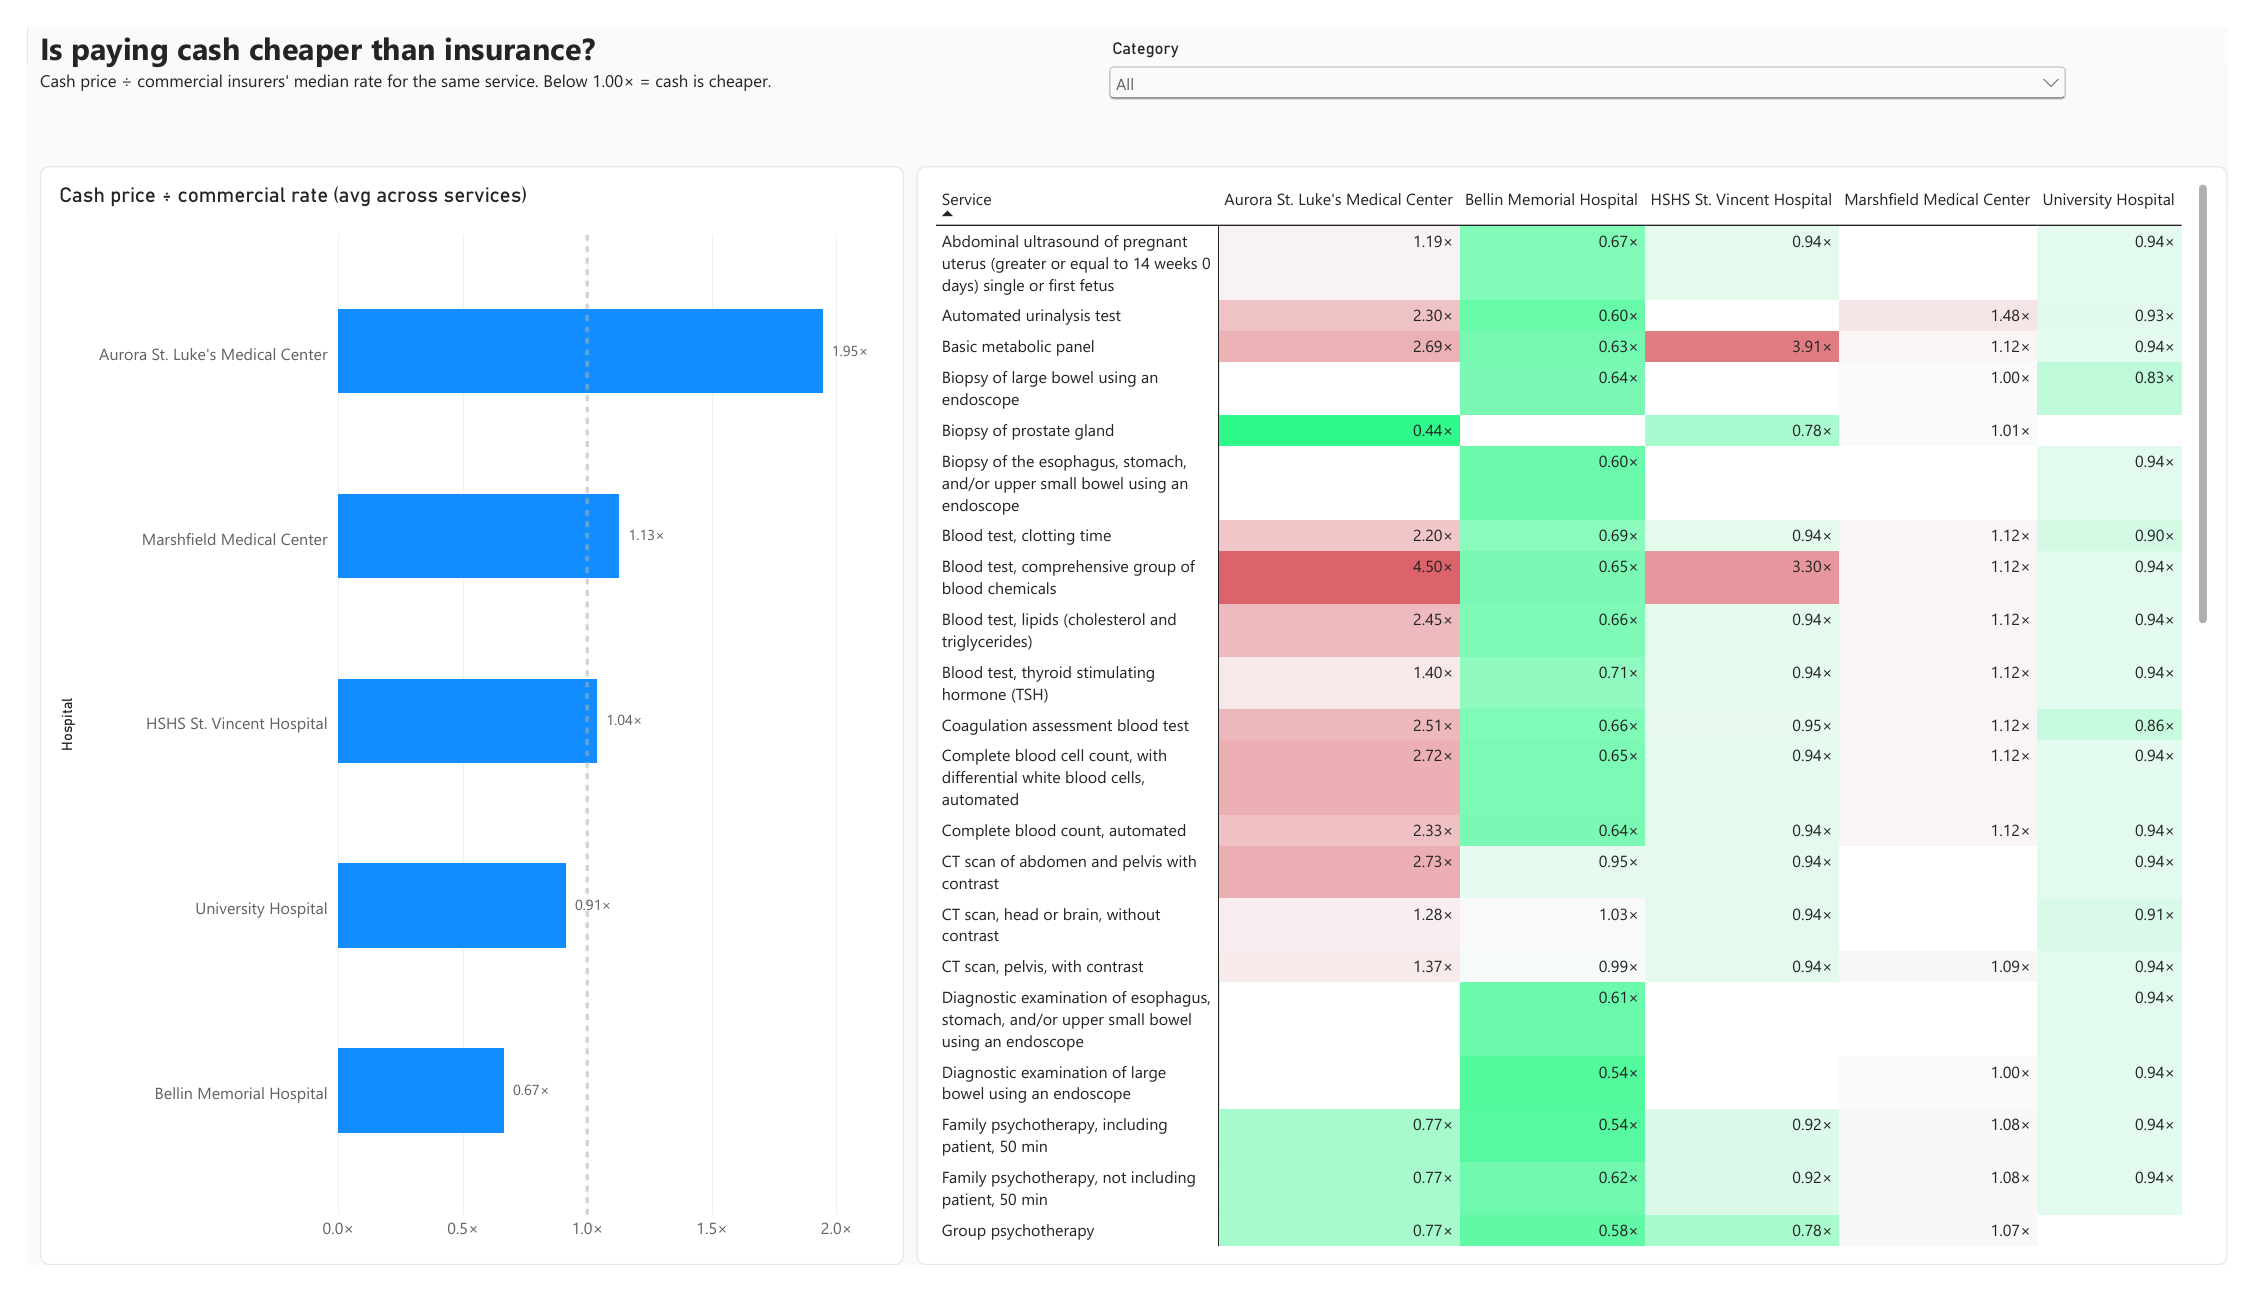

Layout of this report page (visuals, bound fields, positions):
{"tool":"powerbi","page":{"name":"Cash vs Insurance","canvas":[1920,1080],"ordinal":2},"visuals":[{"type":"textbox","box":[10.7,0,844.7,241.3],"z":0},{"type":"slicer","fields":{"Values":["service.category"]},"box":[939.4,10.7,844.7,61.1],"z":1000},{"type":"clusteredBarChart","title":"Cash price ÷ commercial rate (avg across services)","fields":{"Category":["hospital.hospital_name"],"Y":["Metrics.Avg Cash vs Commercial"]},"box":[10.7,120.7,754.6,959.2],"z":2000},{"type":"pivotTable","fields":{"Columns":["hospital.hospital_name"],"Rows":["service.service"],"Values":["Metrics.Cash vs Commercial"]},"box":[775.9,120.7,1144.1,959.2],"z":3000}]}

Visuals, with their boxes in screenshot pixels (x1, y1, x2, y2), scaled from the page's 1920x1080 canvas onto the 2255x1293 screenshot:
textbox: <box>13,0,1005,289</box>
slicer - service.category: <box>1103,13,2095,86</box>
"Cash price ÷ commercial rate (avg across services)" clusteredBarChart: <box>13,145,899,1292</box>
pivotTable - hospital.hospital_name x service.service: <box>911,145,2254,1292</box>
